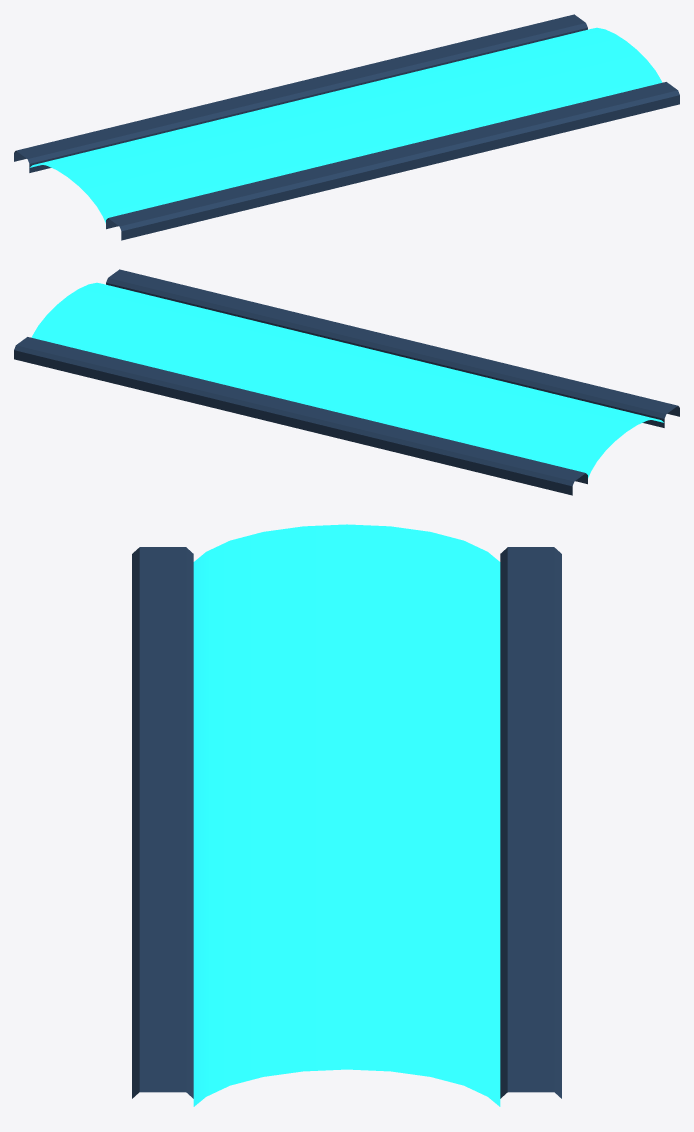
The model's file is Light_Trim_01_Straight_30.glb.
The picture shows the model from 3 angles, top to bottom: view 1: azimuth 30°, elevation 25°; view 2: azimuth 150°, elevation 25°; view 3: azimuth 270°, elevation 25°; orthographic projection. The views are drawn at different scales.
Visible parts, largest first — view 1: Light_Trim_01_Straight_30.001; view 2: Light_Trim_01_Straight_30.001; view 3: Light_Trim_01_Straight_30.001.
Part boxes in pixels (x1,y1,x2,y2): Light_Trim_01_Straight_30.001: (14, 14, 679, 240); Light_Trim_01_Straight_30.001: (14, 269, 679, 495); Light_Trim_01_Straight_30.001: (132, 524, 561, 1106).
Size of the model in its own units: 0.3 by 0.0123 by 0.1.
